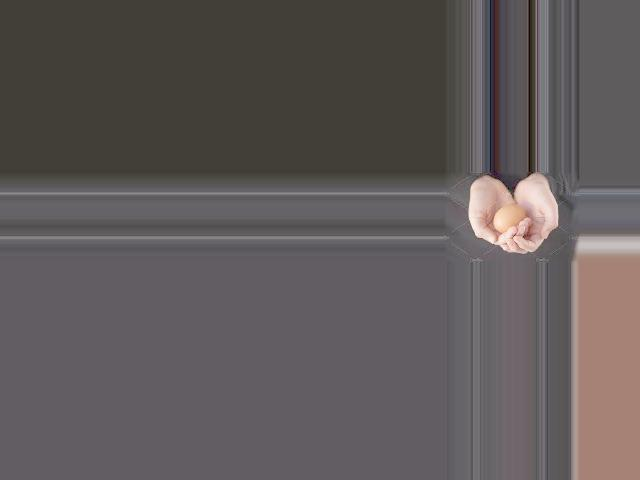egg: (493, 204, 527, 232)
